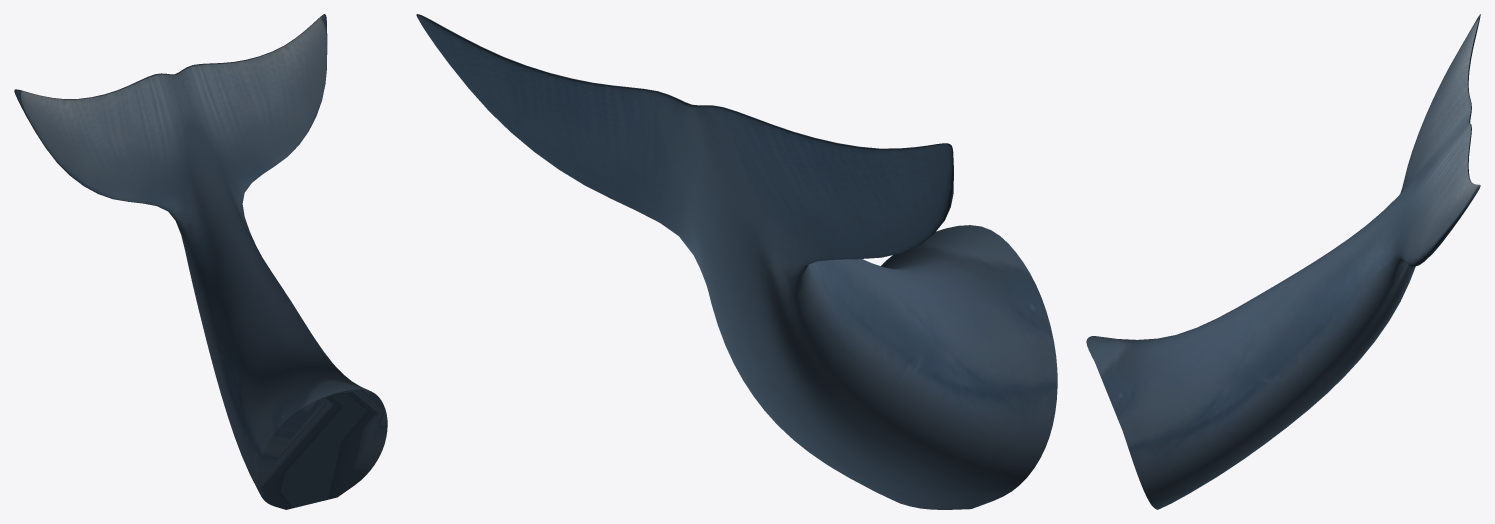
File: Cola_delfin.obj
The picture shows the model from 3 angles, left to right: view 1: azimuth 30°, elevation 25°; view 2: azimuth 150°, elevation 25°; view 3: azimuth 270°, elevation 25°; orthographic projection. The views are drawn at different scales.
Parts seen in each view (by area): view 1: dolphin; view 2: dolphin; view 3: dolphin.
Boxes of the visible parts, <box> form: dolphin: <box>14,14,387,509</box>; dolphin: <box>416,14,1057,509</box>; dolphin: <box>1086,14,1480,509</box>.
Size of the model in its own units: 34.23 by 36.52 by 32.96.
2 materials, 2 textured.
